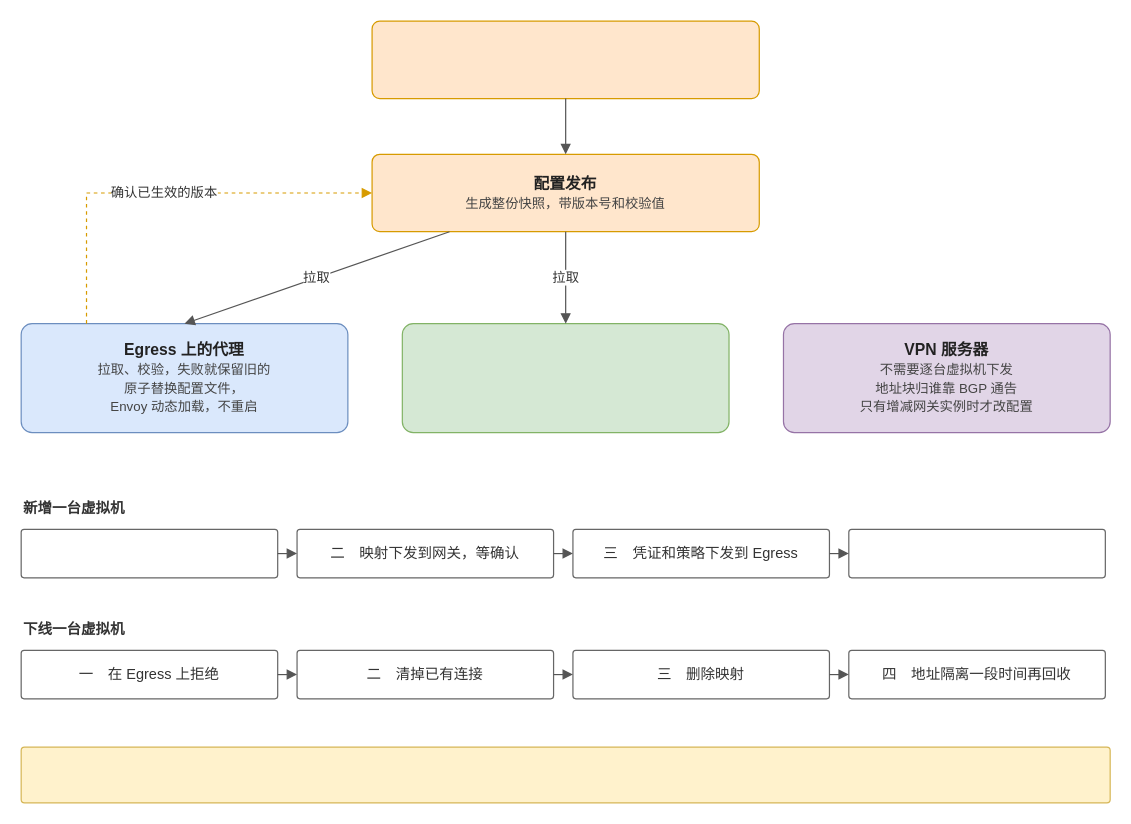
The diagram is 1131 pixels wide and 824 high, and some of its shapes have lost their labels. The centre of each missing label's shape, as x and y in pixels:
一 分配内网 IP: (149,553)
四 放行: (976,553)
地址分配表（权威数据） 虚拟机 · 内网 IP · 所属的块 · 允许的目的地 · 凭证引用: (565,59)
控制面不可用时：各节点沿用最后一份校验通过的配置，已有虚拟机不受影响，只是不能新增和变更。 未登记的虚拟机始终被拒绝，不因为控制面故障而放开。: (565,774)
网关上的代理 拉取、校验，失败就保留旧的 整张映射表在一个事务里替换， 没有中间状态: (565,377)
